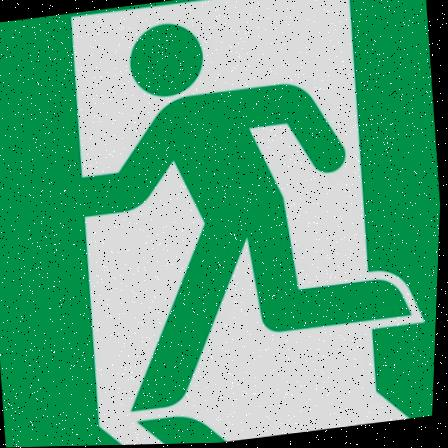emergency_exit: (1, 0, 441, 446)
